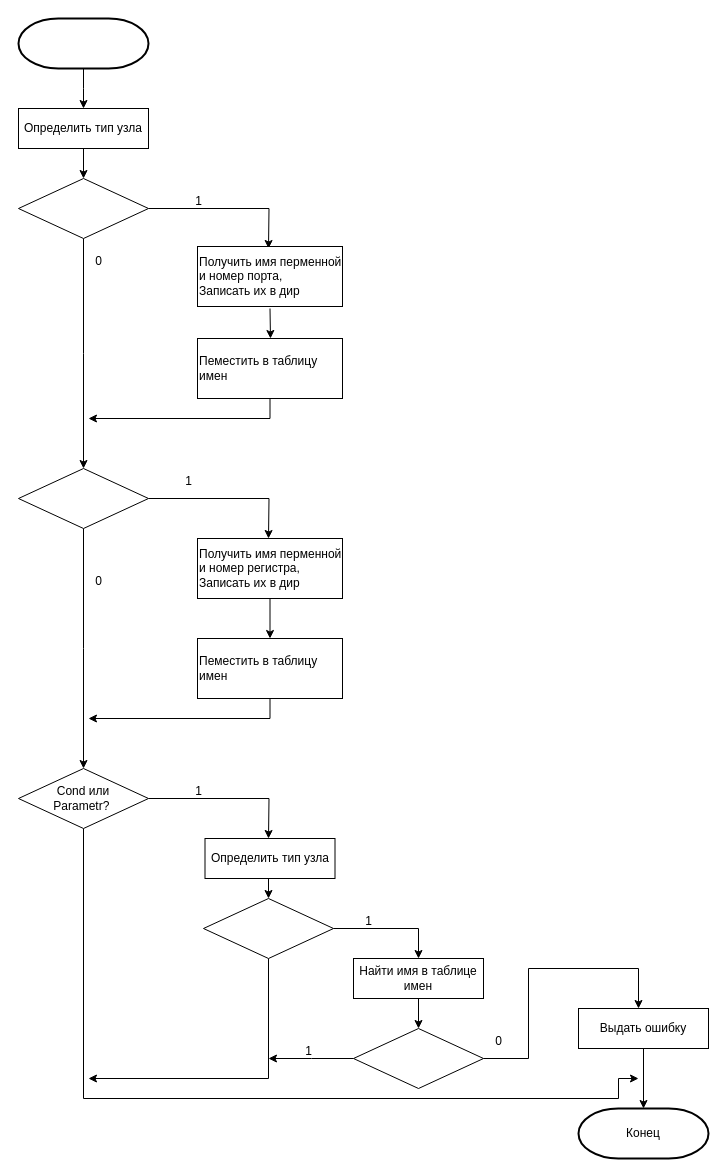
This 726x1176 diagram has some shape labels left out. Each missing label, with the centre of its shape:
"Assgn?" goes at point 83,498.
"Define?" goes at point 83,208.
"ID?" goes at point 268,928.
"Есть?" goes at point 418,1058.
"Начало" goes at point 83,43.
